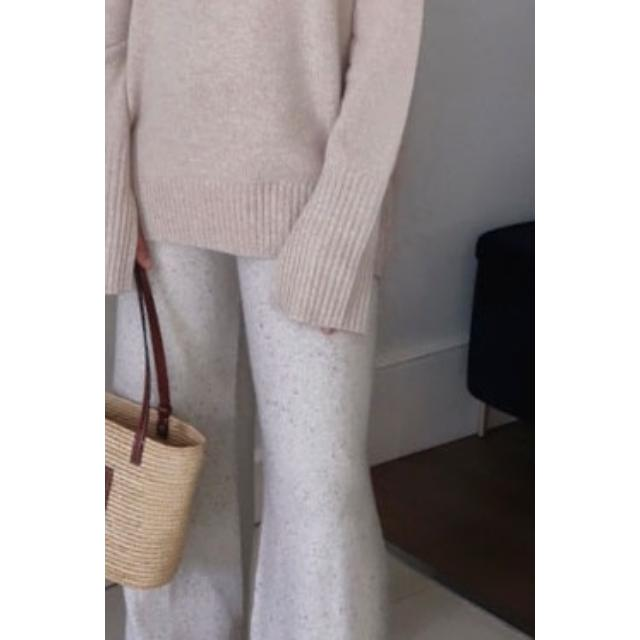wool: (105, 1, 465, 342)
